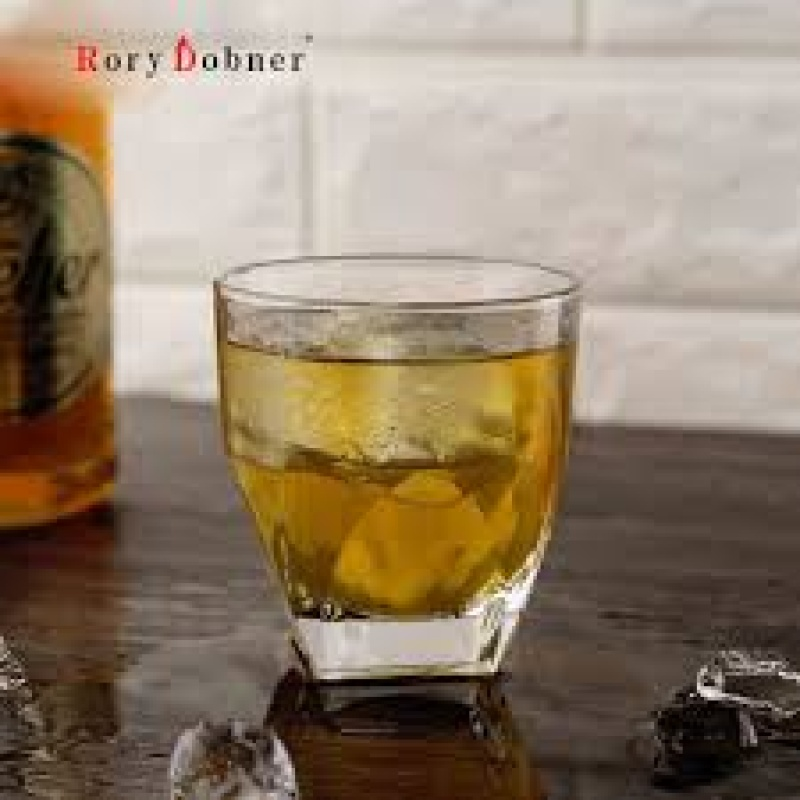whiskey: (220, 247, 594, 685)
